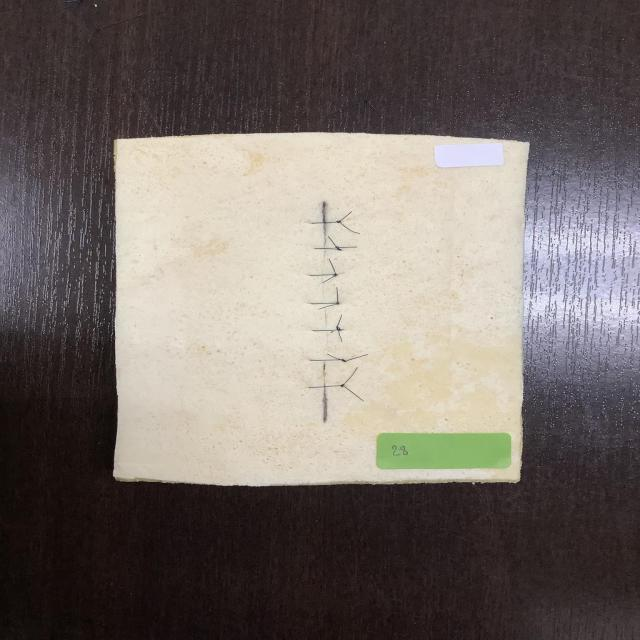knot: (333, 244, 344, 253), (336, 357, 349, 364), (334, 325, 344, 333), (338, 382, 347, 389), (334, 300, 342, 307), (334, 219, 343, 224), (333, 274, 338, 277)
leftover: (341, 384, 365, 402), (342, 366, 359, 385), (339, 220, 361, 234), (344, 353, 369, 362), (338, 210, 353, 222), (327, 235, 339, 249), (317, 303, 339, 310), (321, 274, 336, 284), (328, 258, 336, 276), (326, 353, 342, 361), (336, 314, 343, 328), (337, 329, 343, 343), (335, 286, 339, 304), (337, 246, 358, 249)
stitch: (307, 383, 345, 389), (311, 326, 340, 332), (310, 220, 342, 224), (309, 359, 346, 362), (309, 302, 339, 305), (308, 274, 336, 277), (313, 247, 340, 250)
wound: (320, 201, 328, 423)
